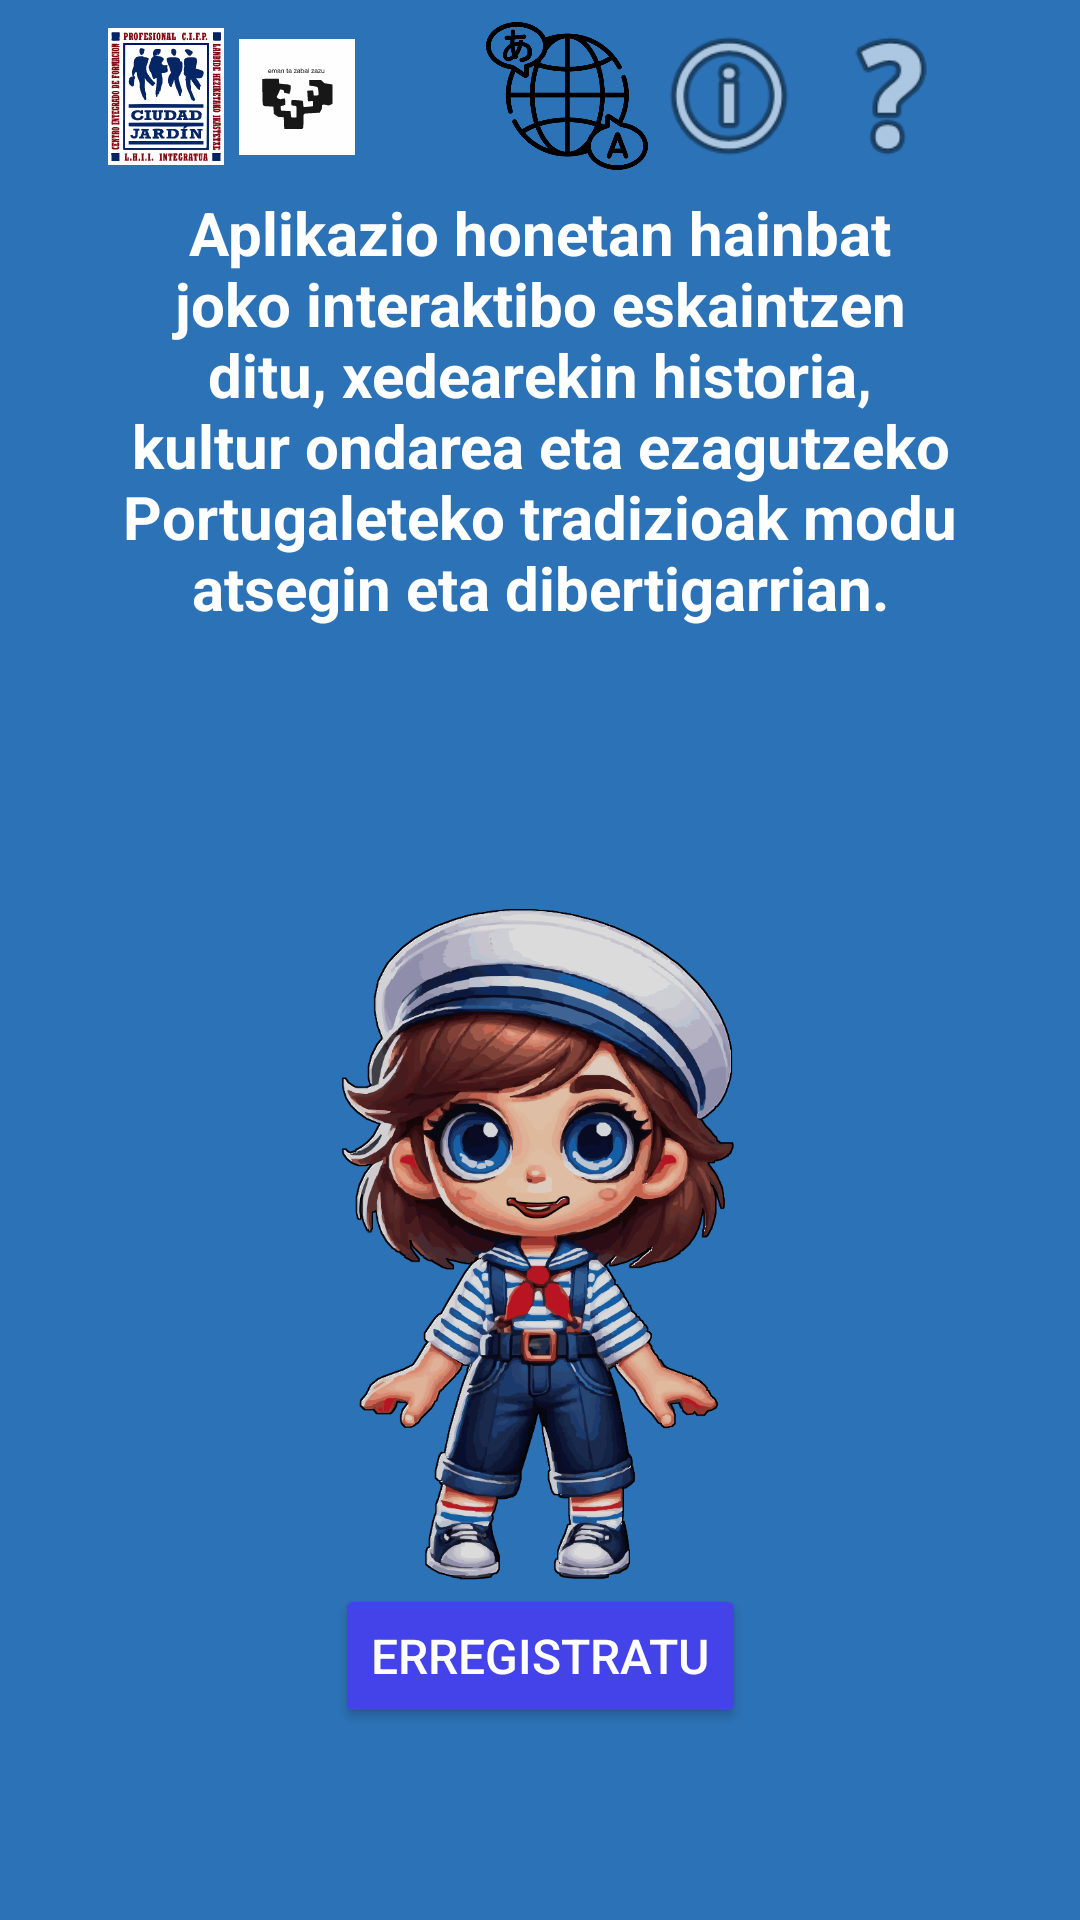

Icon bounding boxes for this 1080×1920 phone screenshot, format (x1, y1, x2, y2):
help: (856, 38, 927, 154)
info details: (671, 38, 787, 154)
